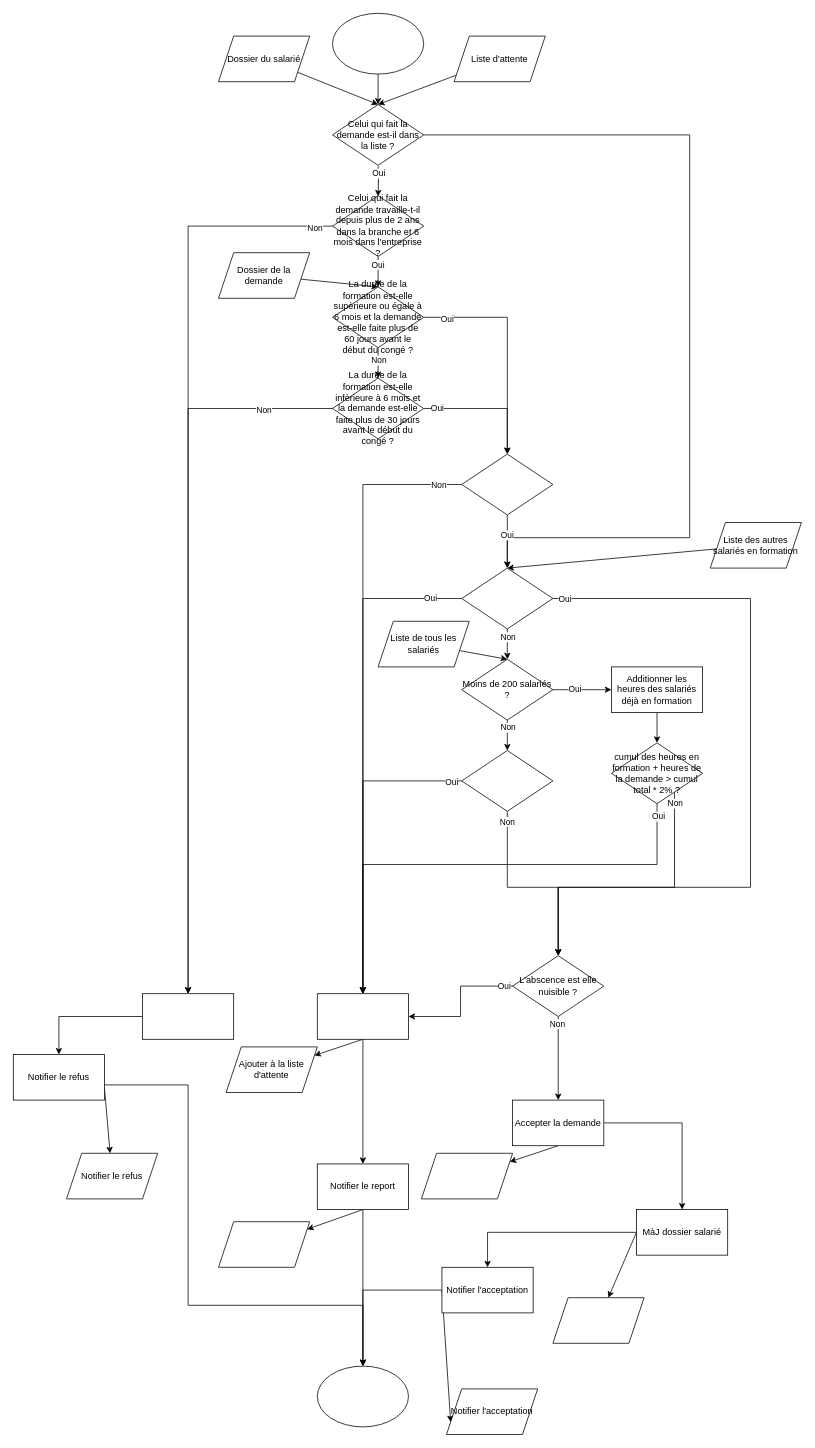
This 815x1448 diagram has some shape labels left out. Each missing label, with the centre of its shape:
Ajouter à la liste des salariés en congés: point 467,1176
Dossier salarié: point 598,1320
Début: point 378,43
Fin: point 362,1396
Le délai de franchise est-il respecté ?: point 507,484
Moins de 10 salariés et moins d'1 salarié déjà en formation ?: point 507,598
nombre de salariés en formation + 1 > total des salariés ?: point 507,780
Notifier le repport: point 264,1244
Refuser la demande: point 188,1016
Reporter la demande: point 362,1016
